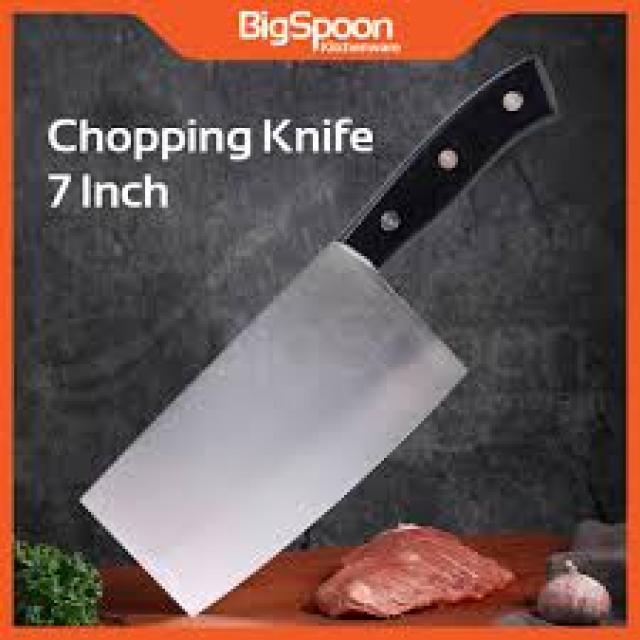Knife: (80, 57, 555, 612)
